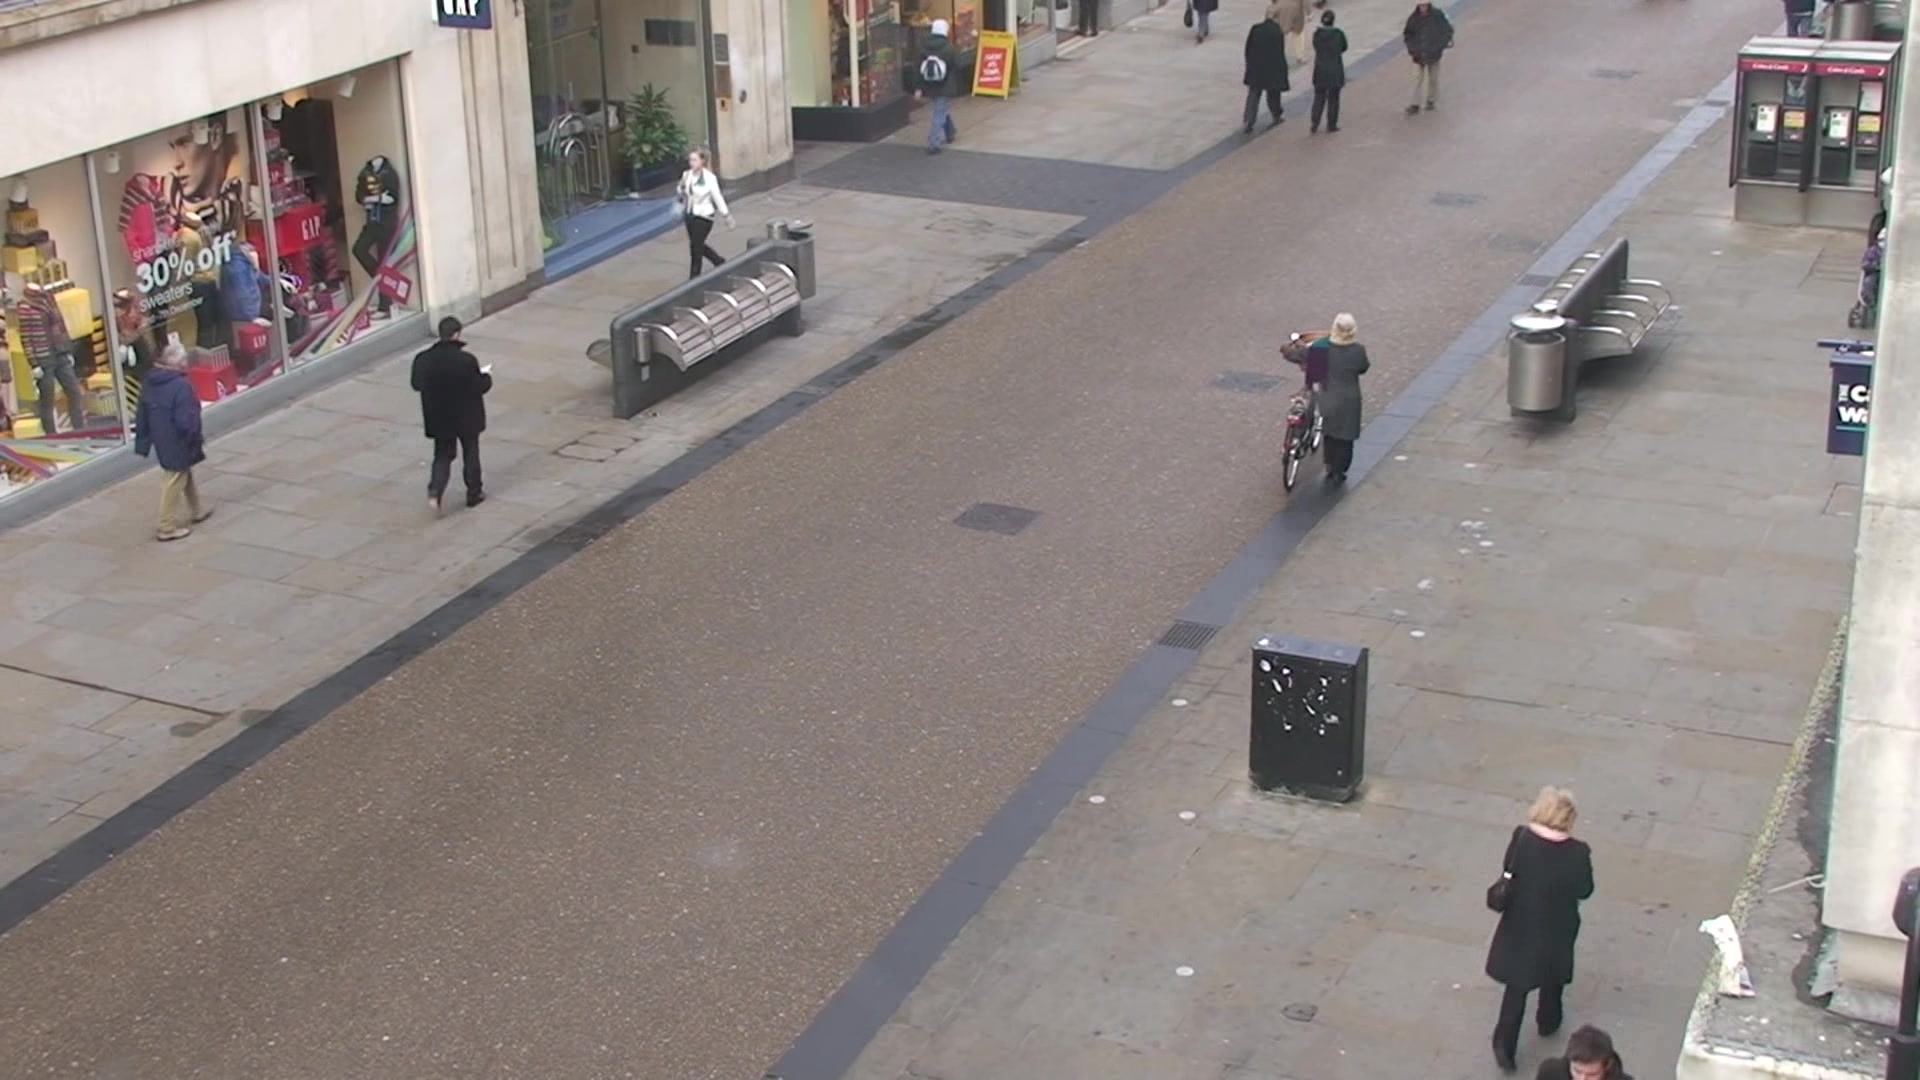person: (1486, 783, 1593, 1070), (132, 344, 216, 545), (411, 317, 496, 515), (1279, 313, 1371, 489), (669, 148, 736, 284), (1241, 6, 1291, 138), (1309, 8, 1347, 133)
